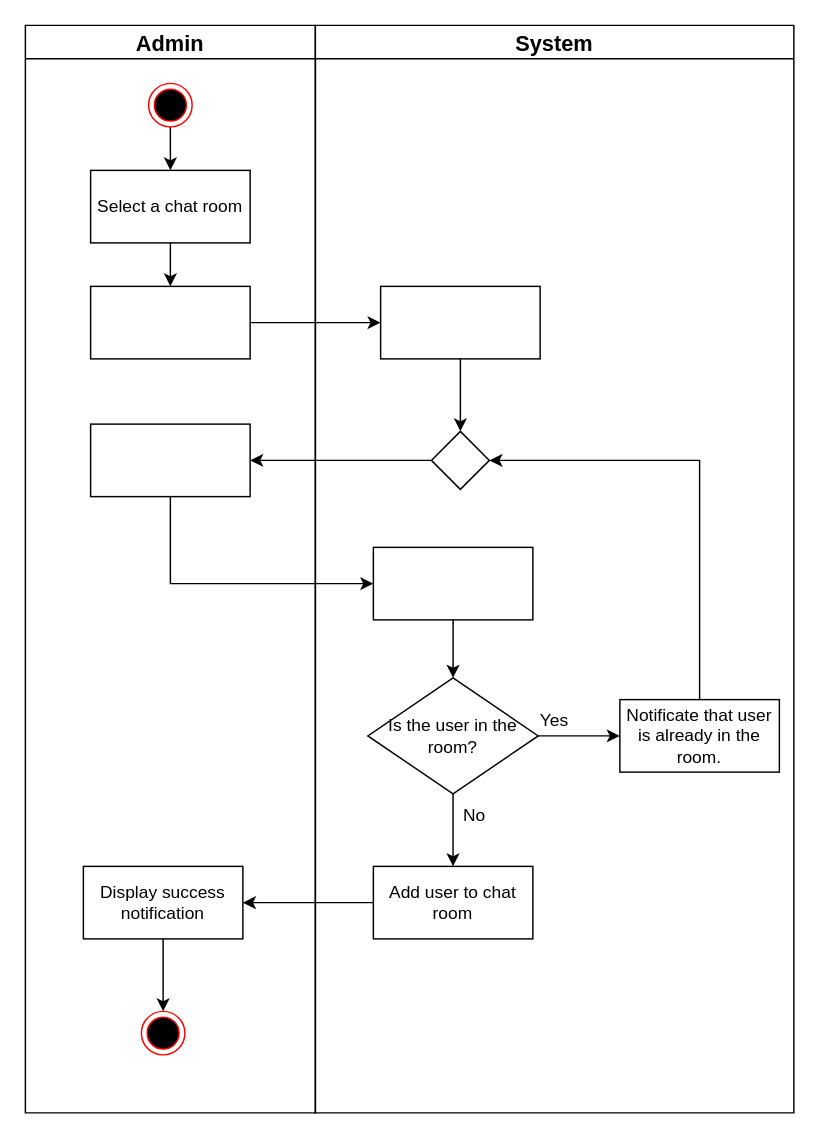
The diagram is 819 pixels wide and 1138 high, and some of its shapes have lost their labels. The shapes that lost their labels are listed below. From the top down, each one's centre as x and y in pixels, then its label:
(169,322): Select "Invite User"
(459,322): Display search tools
(169,460): Enter name/ Select User
(452,583): Check user status
